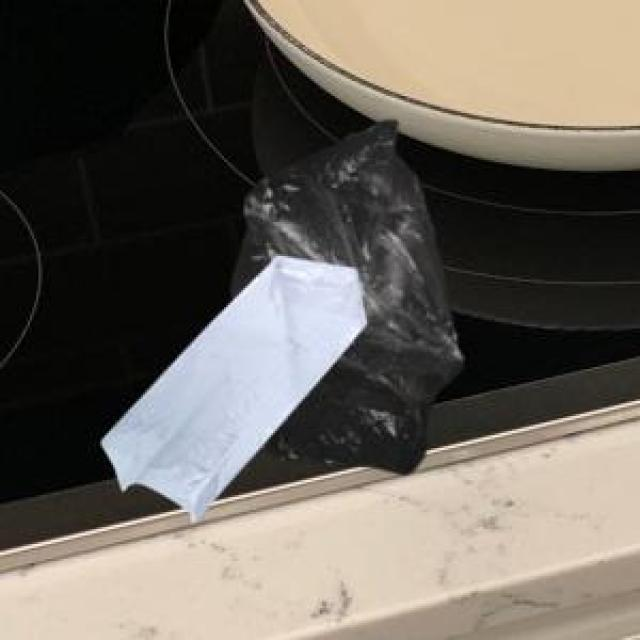Vinyl: (231, 122, 464, 472)
